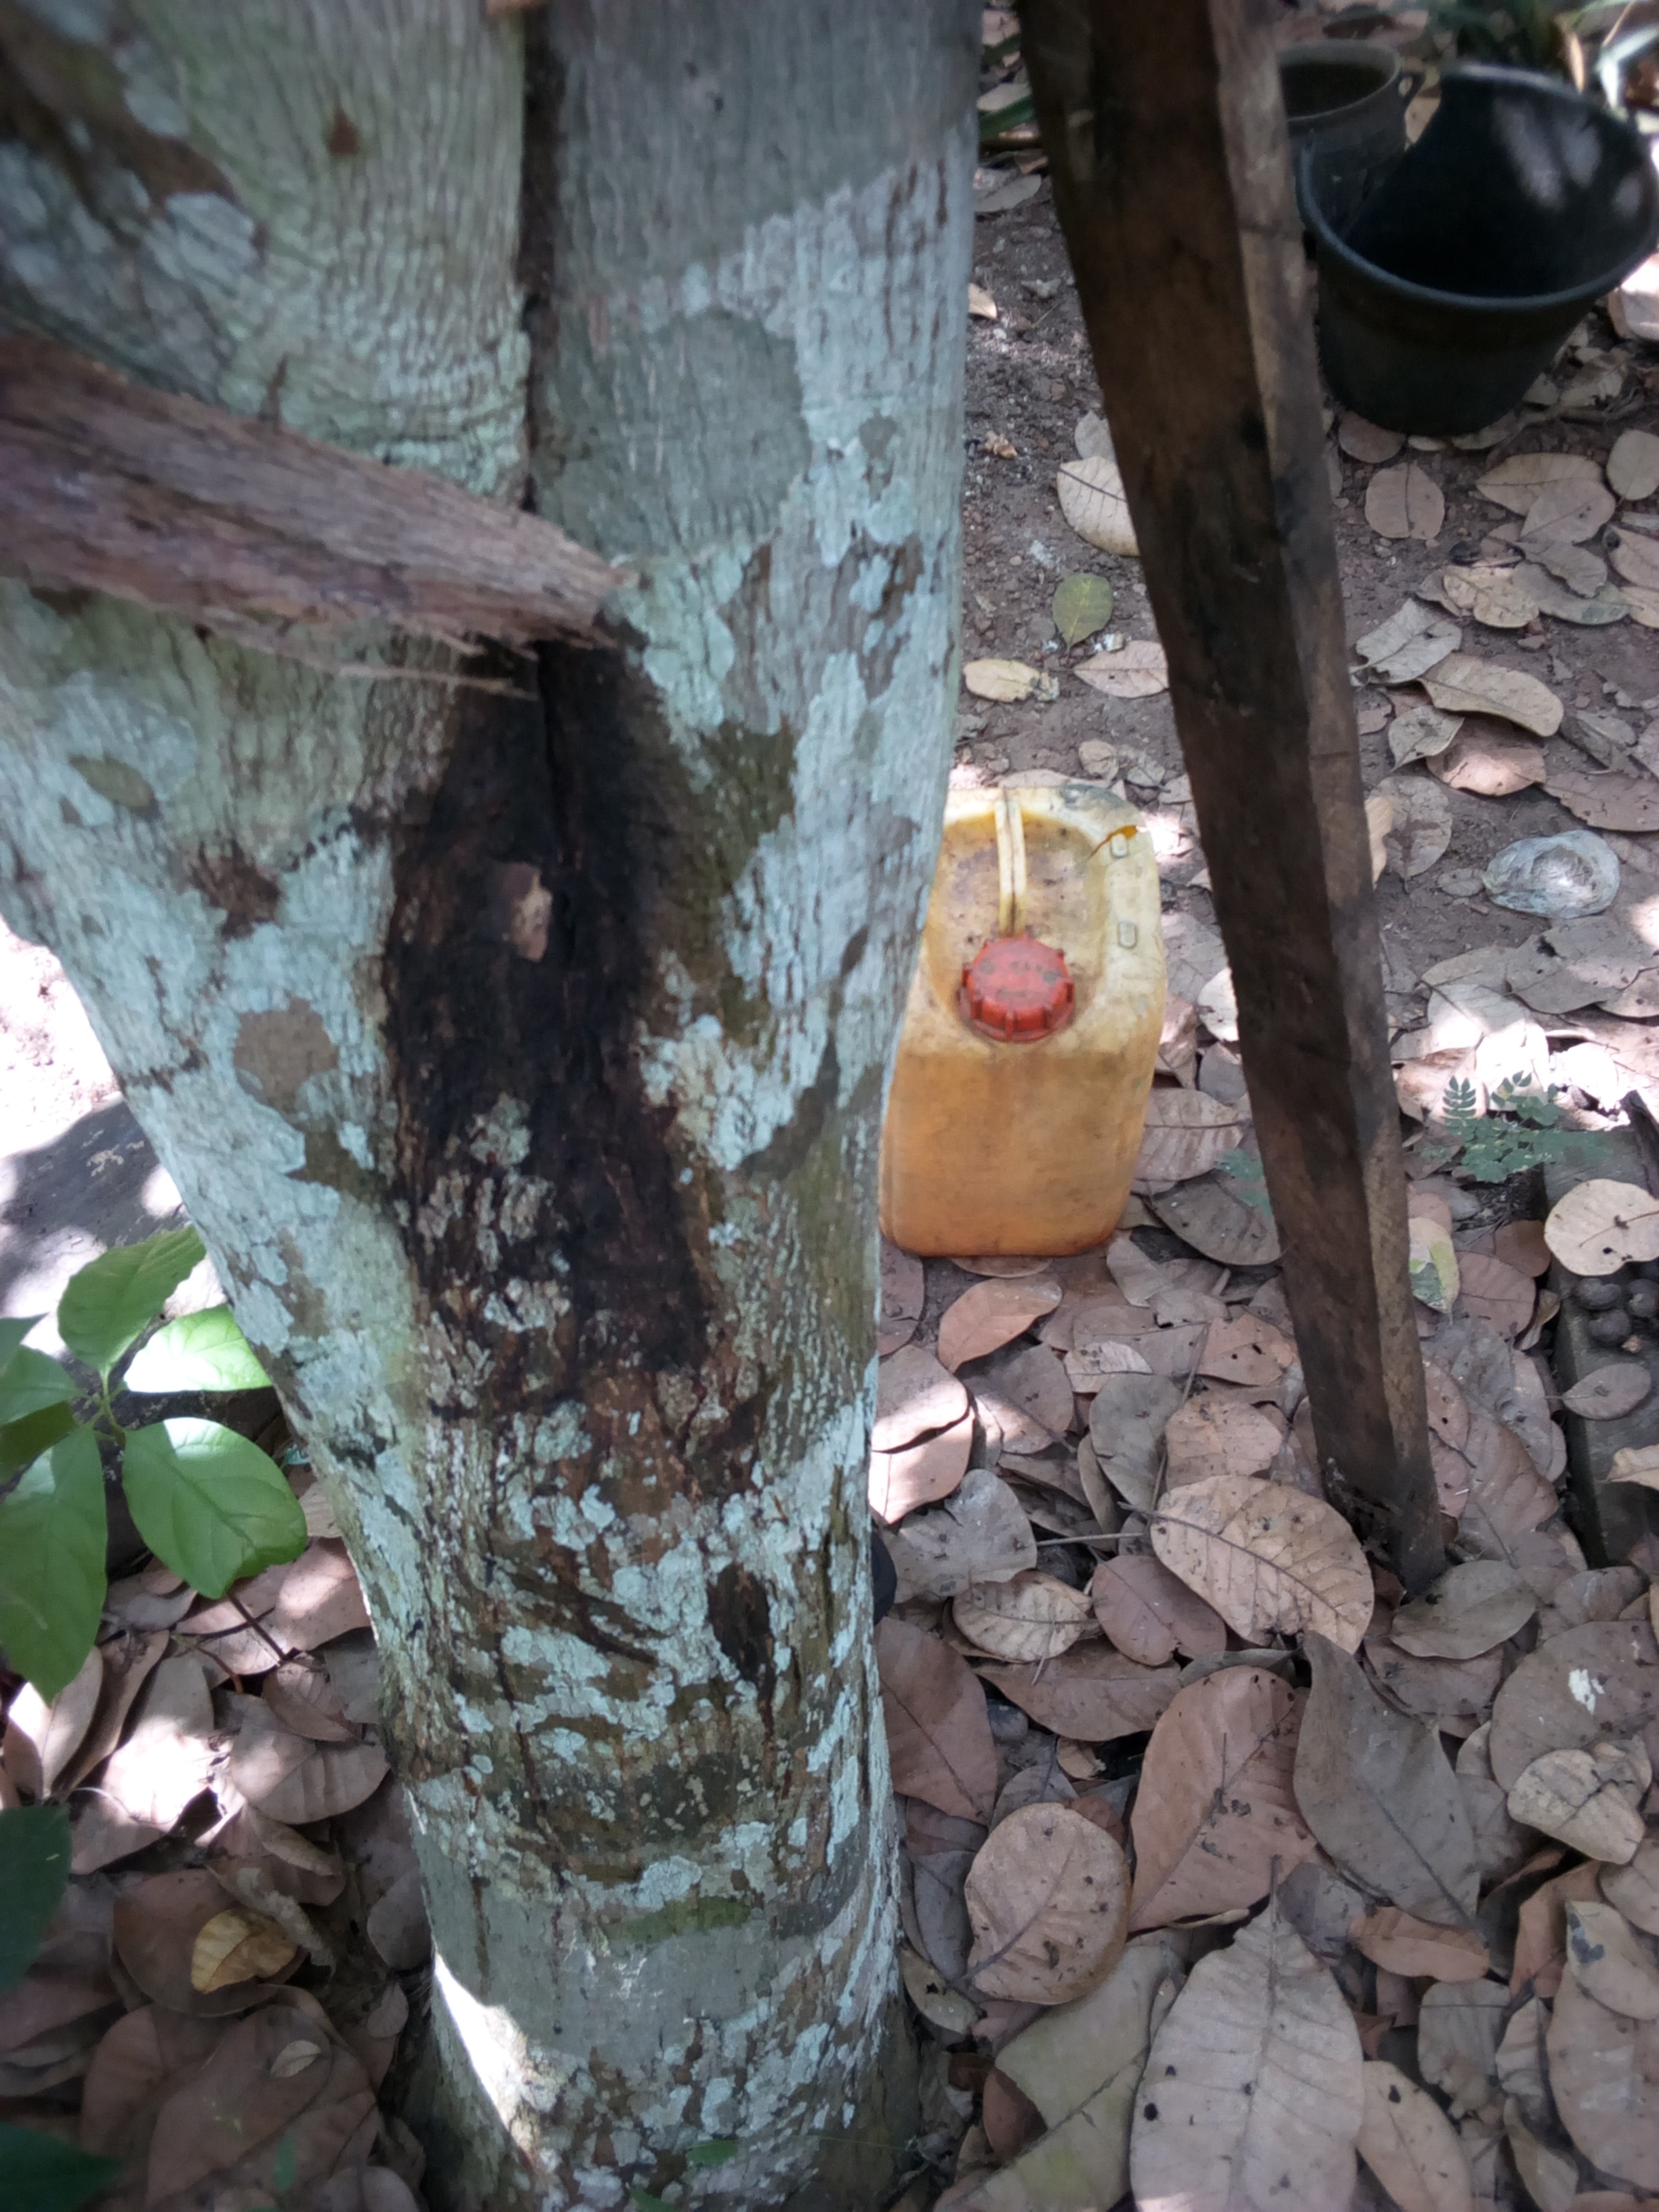Gommose: (375, 618, 829, 1469)
